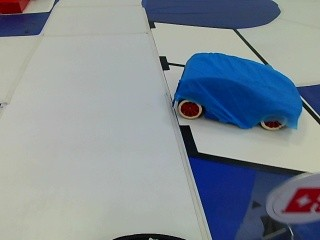battery: (279, 182, 318, 217)
car: (169, 49, 300, 135)
